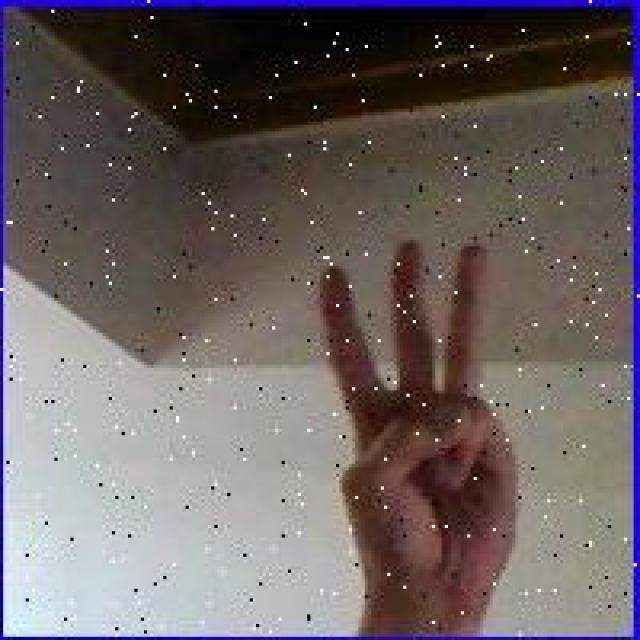W: (314, 238, 528, 594)
